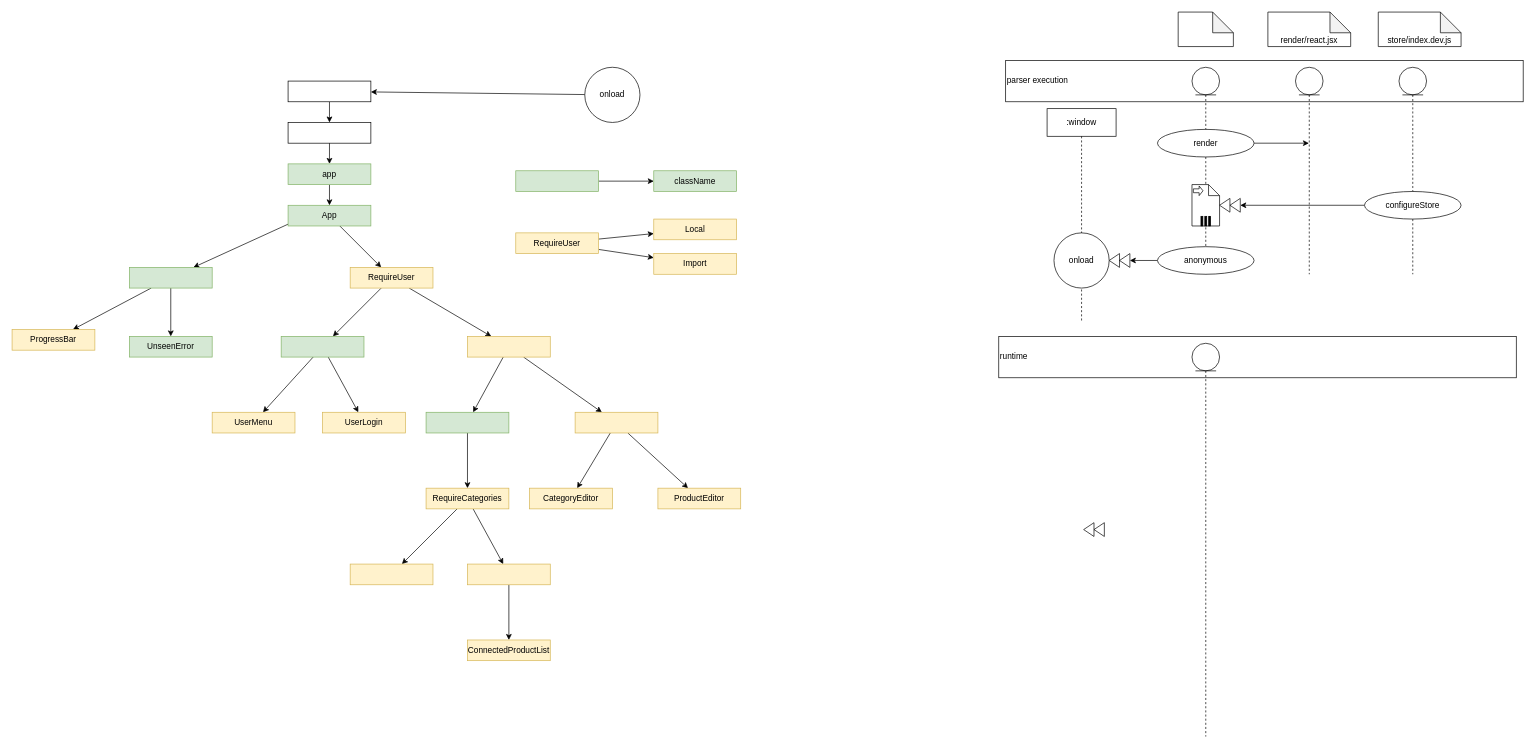
Some shapes in this 1535 by 749 pixel diagram are drawn without their labels. Each missing label, with the centre of its shape:
"app/index.js" belongs at point (1205, 29).
"CategorySelector" belongs at point (391, 574).
"Content" belongs at point (467, 422).
"document" belongs at point (329, 132).
"html" belongs at point (557, 180).
"Modal" belongs at point (616, 422).
"Notification" belongs at point (170, 277).
"RegisteredUser" belongs at point (508, 346).
"RequireProducts" belongs at point (508, 574).
"store" belongs at point (1205, 205).
"TopMenu" belongs at point (322, 346).
"window" belongs at point (329, 91).
